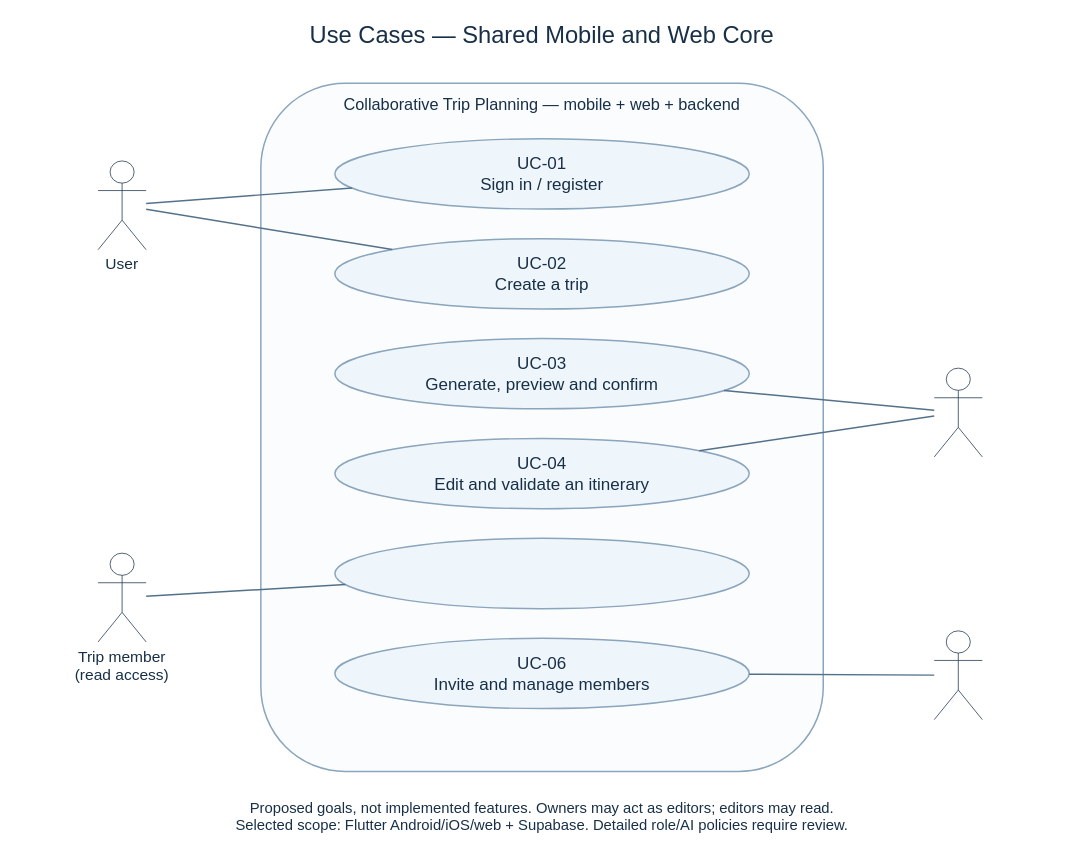
The diagram is 1083 pixels wide and 854 high, and some of its shapes have lost their labels. The shapes that lost their labels are listed below. From the top down, each one's centre as x and y in pixels, then its label:
At (958,412): "Trip editor (owner included)".
At (542,573): "UC-05 View day plan / map".
At (958,675): "Organizer / owner".
